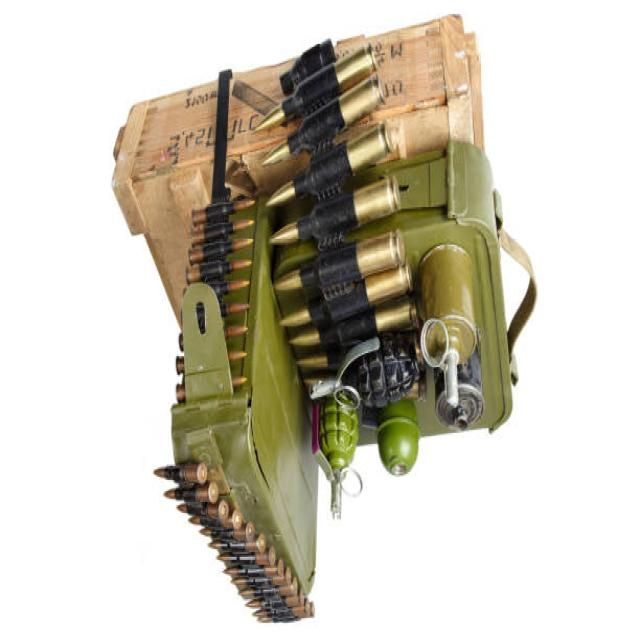grenade: (307, 328, 416, 413), (312, 397, 368, 519)
